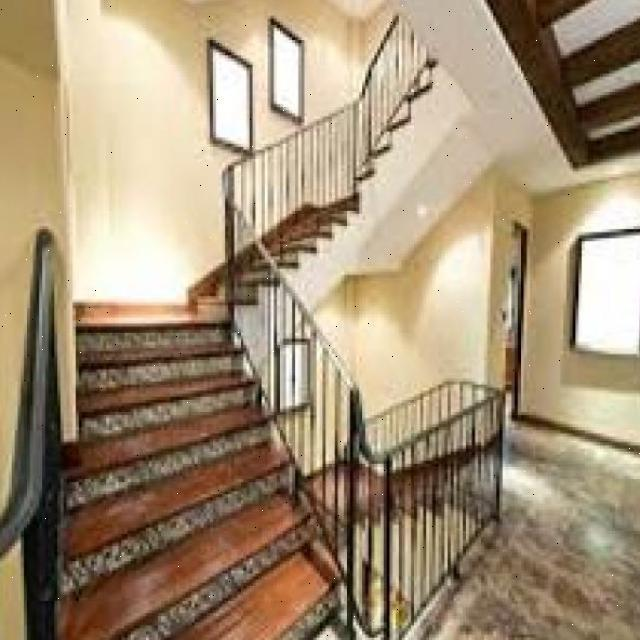stair: (57, 397, 338, 640)
